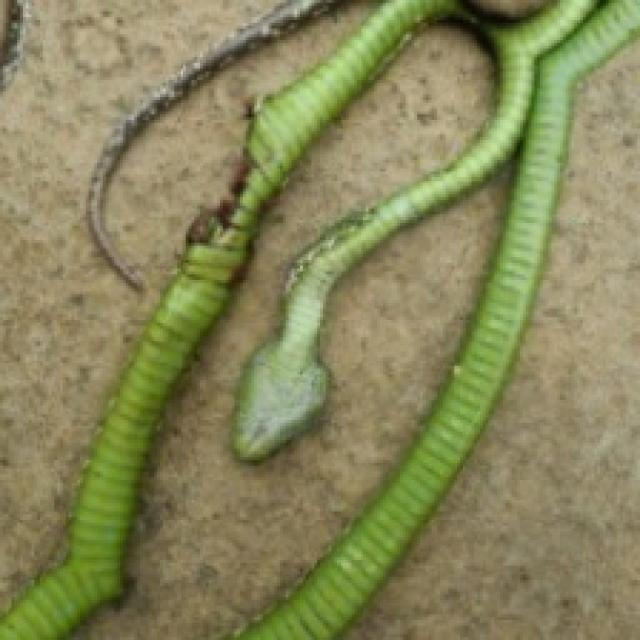philippine pitviper: (0, 0, 640, 640), (89, 0, 336, 283)
